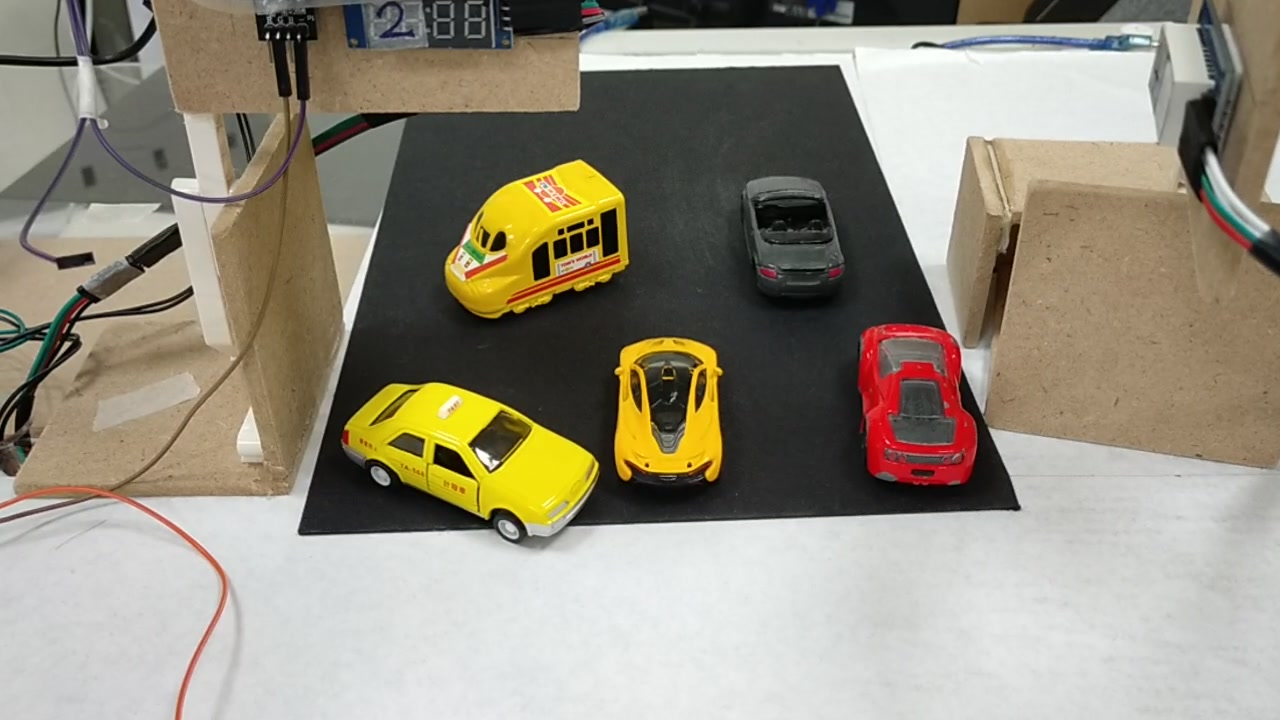car: (341, 374, 596, 549), (857, 320, 977, 486), (619, 342, 719, 492), (739, 172, 839, 296)
